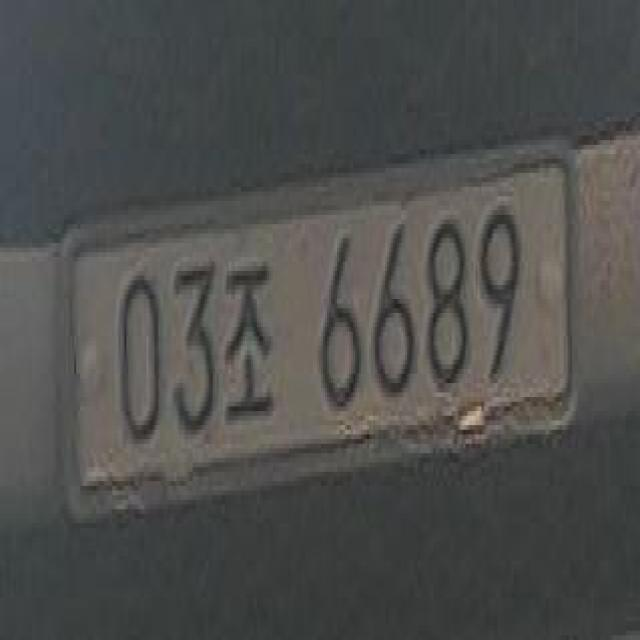illegal_plate: (68, 155, 572, 502)
